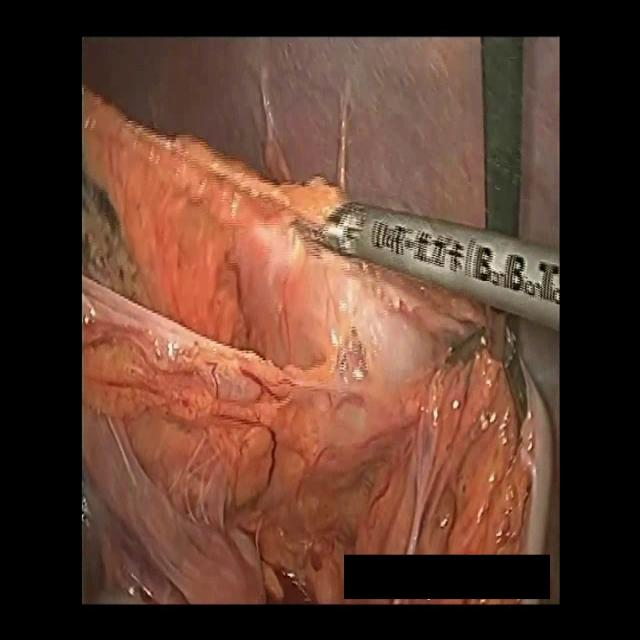surgical-area: (81, 36, 562, 604)
surgical-tool: (294, 199, 560, 331)
